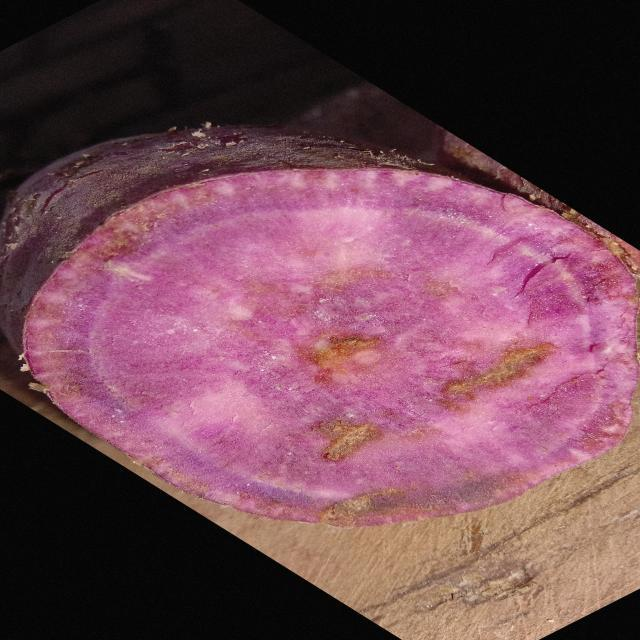Sick Sweet Potato_Tuber Rot: (24, 170, 638, 526)
